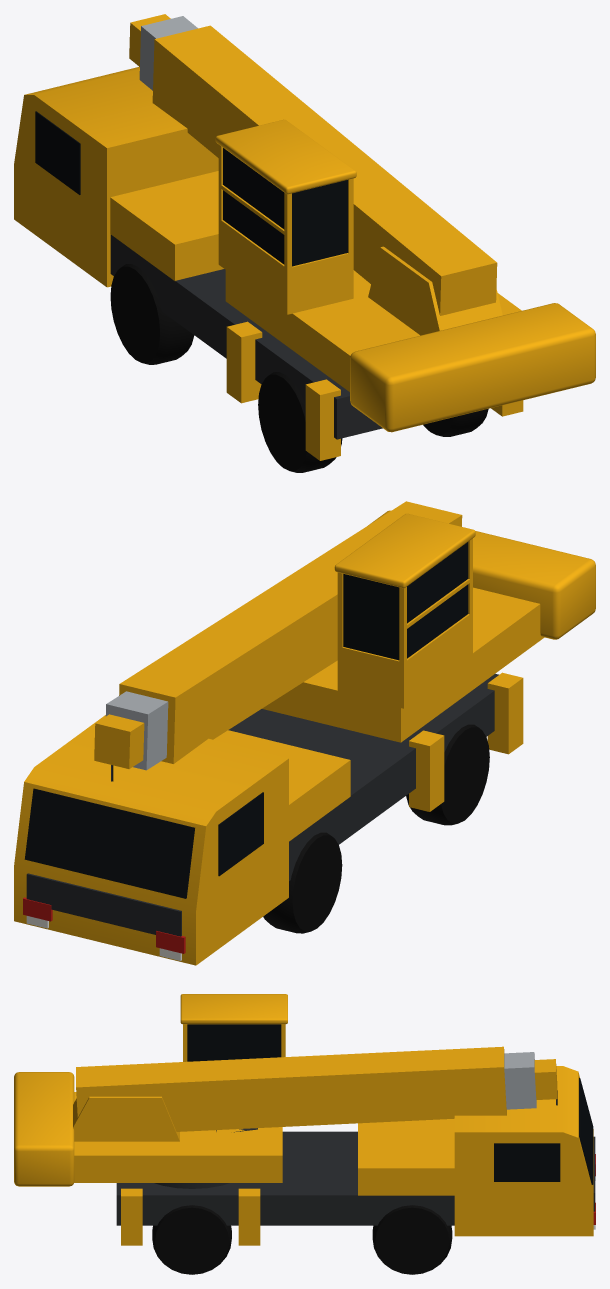
Rendered from plant.lifting.mobile_crane_2_axle_stowed.glb.
3 renders of one model, top to bottom at view 1: azimuth 30°, elevation 25°; view 2: azimuth 150°, elevation 25°; view 3: azimuth 270°, elevation 25°, orthographic. The views are drawn at different scales.
Visible parts, largest first — view 1: upper__plant_yellow, carrier__plant_yellow, boom__plant_yellow, wheels__rubber, carrier__steel_dark, upper__glass_dark, outriggers__plant_yellow, carrier__glass_dark, boom__steel_galvanised; view 2: carrier__plant_yellow, upper__plant_yellow, boom__plant_yellow, carrier__steel_dark, carrier__glass_dark, wheels__rubber, upper__glass_dark, outriggers__plant_yellow, boom__steel_galvanised, carrier__hazard_red; view 3: boom__plant_yellow, upper__plant_yellow, carrier__plant_yellow, carrier__steel_dark, wheels__rubber, carrier__glass_dark, upper__glass_dark, outriggers__plant_yellow, boom__steel_galvanised.
Part boxes in pixels (bbox=[...]): upper__plant_yellow: bbox=[215, 119, 595, 432]; carrier__plant_yellow: bbox=[14, 67, 223, 287]; boom__plant_yellow: bbox=[129, 14, 497, 315]; wheels__rubber: bbox=[110, 264, 488, 472]; carrier__steel_dark: bbox=[110, 234, 382, 439]; upper__glass_dark: bbox=[223, 148, 347, 266]; outriggers__plant_yellow: bbox=[226, 321, 523, 460]; carrier__glass_dark: bbox=[35, 111, 80, 194]; boom__steel_galvanised: bbox=[139, 16, 197, 90]; carrier__plant_yellow: bbox=[14, 715, 350, 965]; upper__plant_yellow: bbox=[262, 510, 595, 742]; boom__plant_yellow: bbox=[94, 501, 462, 768]; carrier__steel_dark: bbox=[26, 673, 498, 936]; carrier__glass_dark: bbox=[24, 788, 263, 898]; wheels__rubber: bbox=[263, 724, 489, 933]; upper__glass_dark: bbox=[343, 542, 468, 660]; outriggers__plant_yellow: bbox=[409, 672, 523, 811]; boom__steel_galvanised: bbox=[105, 691, 168, 770]; carrier__hazard_red: bbox=[23, 897, 185, 953]; boom__plant_yellow: bbox=[76, 1046, 557, 1131]; upper__plant_yellow: bbox=[14, 994, 287, 1186]; carrier__plant_yellow: bbox=[358, 1066, 593, 1236]; carrier__steel_dark: bbox=[116, 1131, 595, 1225]; wheels__rubber: bbox=[152, 1205, 452, 1274]; carrier__glass_dark: bbox=[494, 1078, 593, 1184]; upper__glass_dark: bbox=[187, 1024, 281, 1061]; outriggers__plant_yellow: bbox=[121, 1188, 260, 1245]; boom__steel_galvanised: bbox=[504, 1052, 536, 1109].
Size of the model in its own units: 3 by 3.95 by 9.64.
